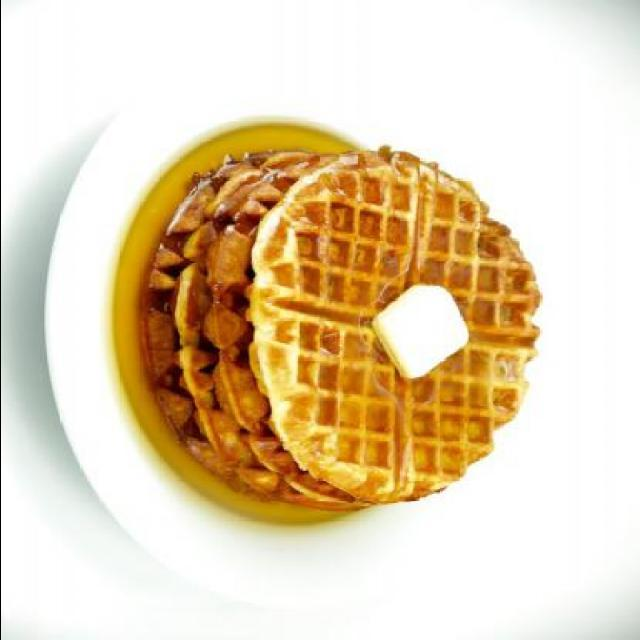Waffle: (240, 143, 548, 509), (206, 150, 382, 507), (169, 153, 311, 510), (136, 157, 262, 500)
